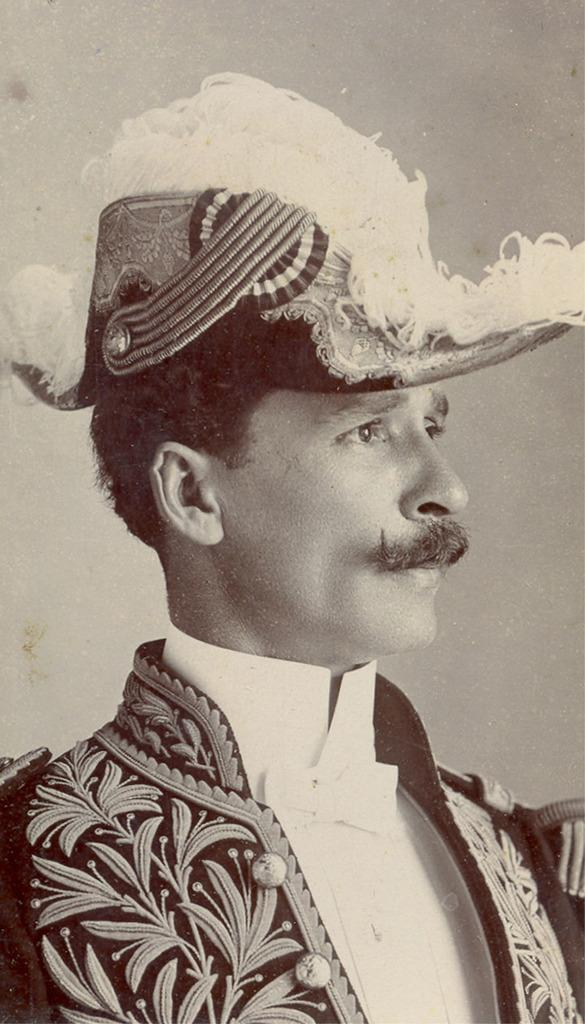Hat: (0, 68, 584, 410)
